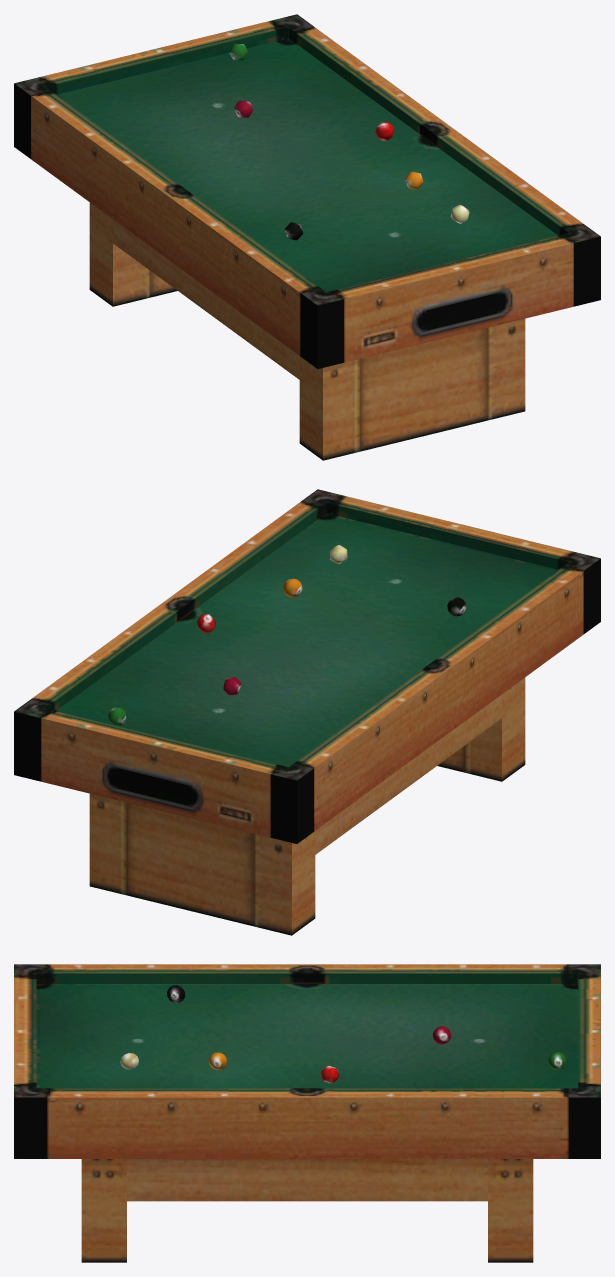
Rendered from pooltable3.fbx.
3 renders of one model, top to bottom at view 1: azimuth 30°, elevation 25°; view 2: azimuth 150°, elevation 25°; view 3: azimuth 270°, elevation 25°, orthographic. The views are drawn at different scales.
Visible parts, largest first — view 1: mesh_0; view 2: mesh_0; view 3: mesh_0.
Part boxes in pixels (x1,y1,x2,y2): mesh_0: (14, 14, 600, 460); mesh_0: (14, 489, 600, 935); mesh_0: (14, 964, 600, 1262).
Size of the model in its own units: 140 by 93.28 by 260.
1 material, 1 textured.
